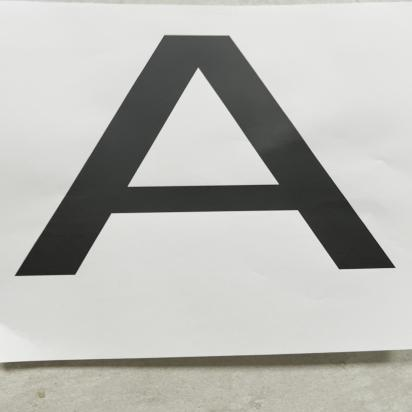seat: (26, 19, 411, 285)
